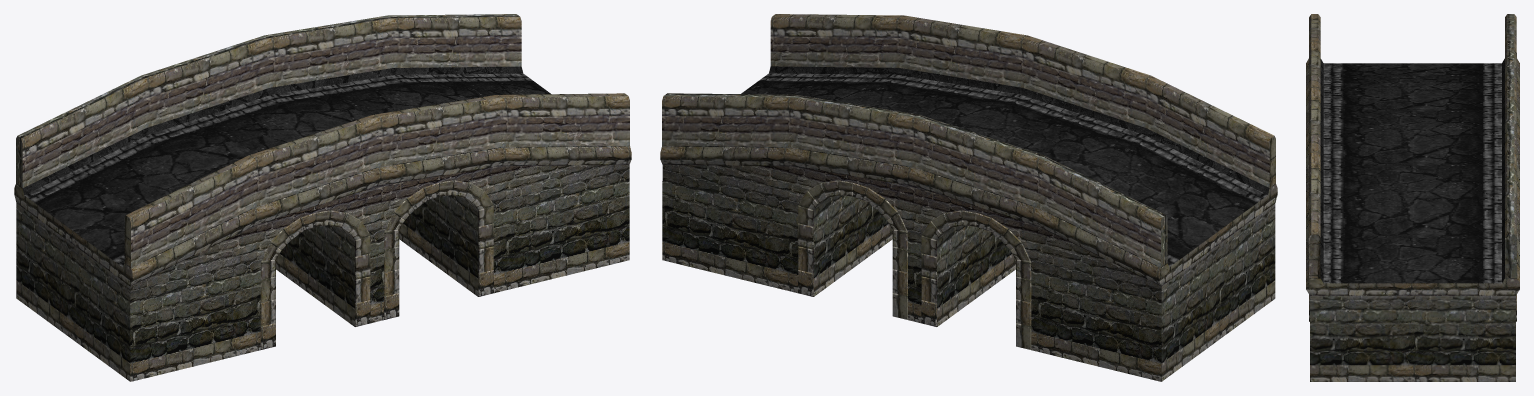
File: Bridge.FBX
The picture shows the model from 3 angles, left to right: view 1: azimuth 30°, elevation 25°; view 2: azimuth 150°, elevation 25°; view 3: azimuth 270°, elevation 25°; orthographic projection. The views are drawn at different scales.
Visible parts, largest first — view 1: Bridge; view 2: Bridge; view 3: Bridge.
Boxes of the visible parts, x1,y1,x2,y2 form: Bridge: (14, 14, 631, 381); Bridge: (660, 14, 1277, 381); Bridge: (1306, 14, 1519, 381).
Size of the model in its own units: 126 by 49.21 by 51.81.
2 materials, 2 textured.
